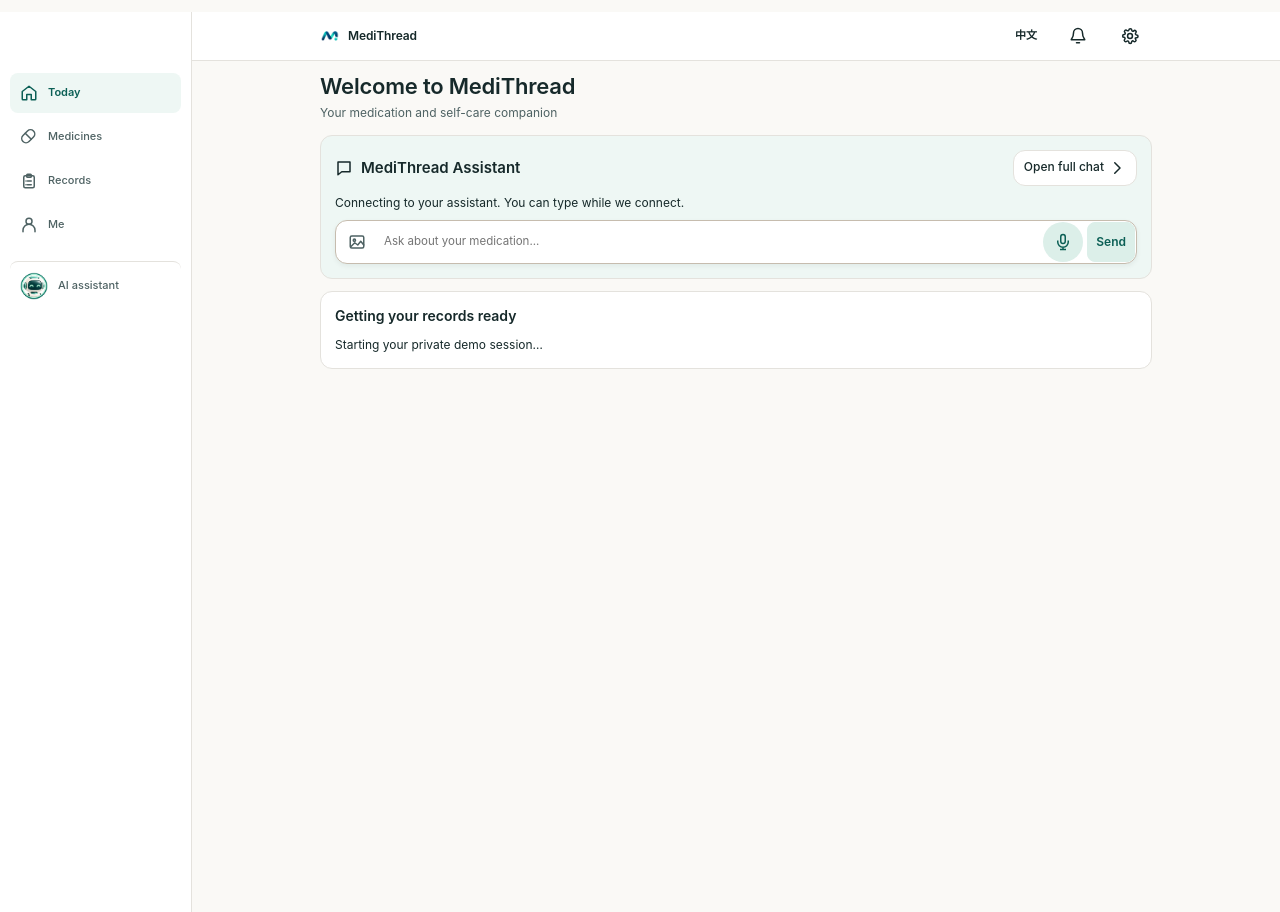
retries a failed session without losing or automatically sending the startup draft
The width and height of the screenshot is (1280, 912).
Type "DEMO retain across retry" into the field at (710, 242), box x1=381 y1=222 x2=1039 y2=262
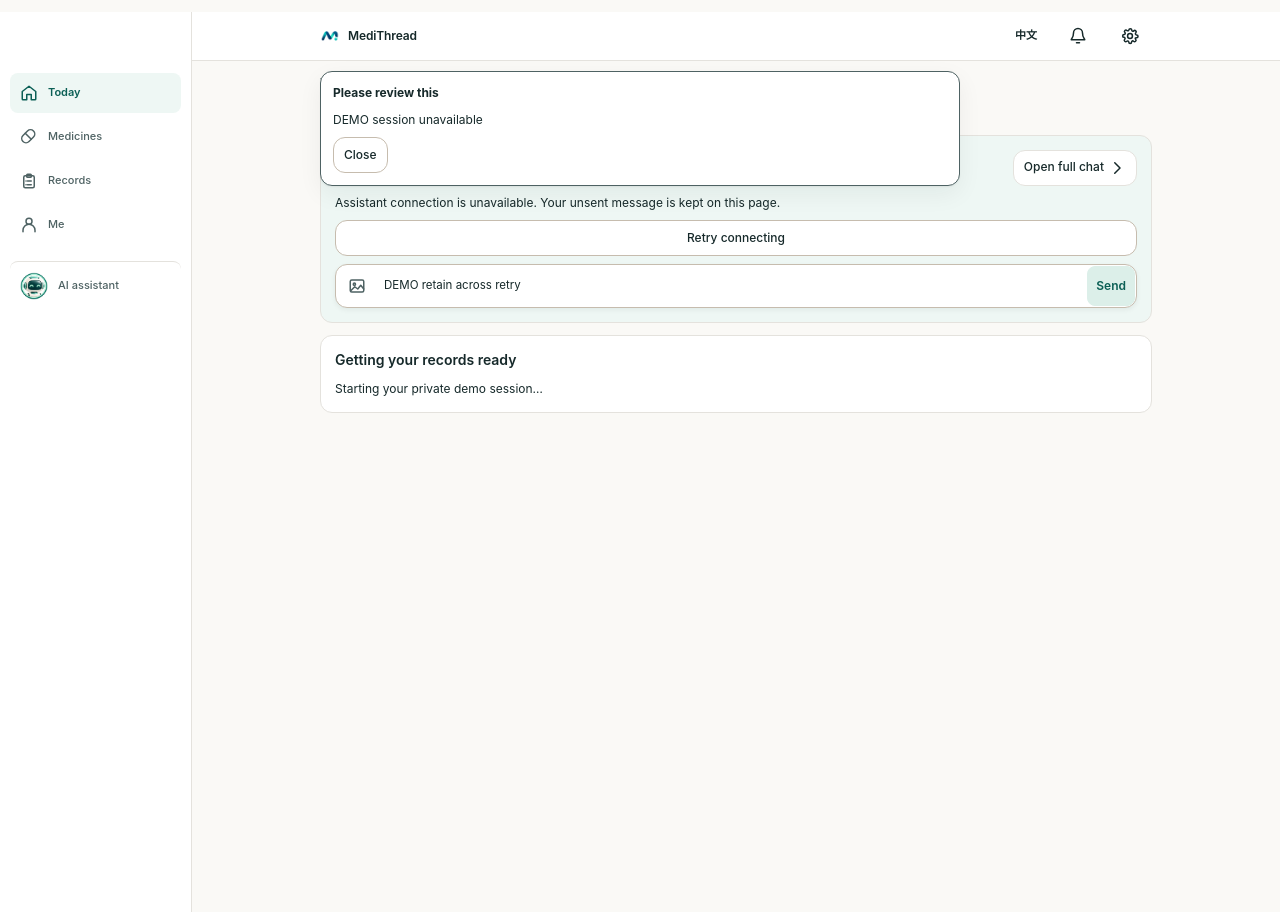
Click the button "Retry connecting" at (736, 238), box x1=335 y1=220 x2=1137 y2=256
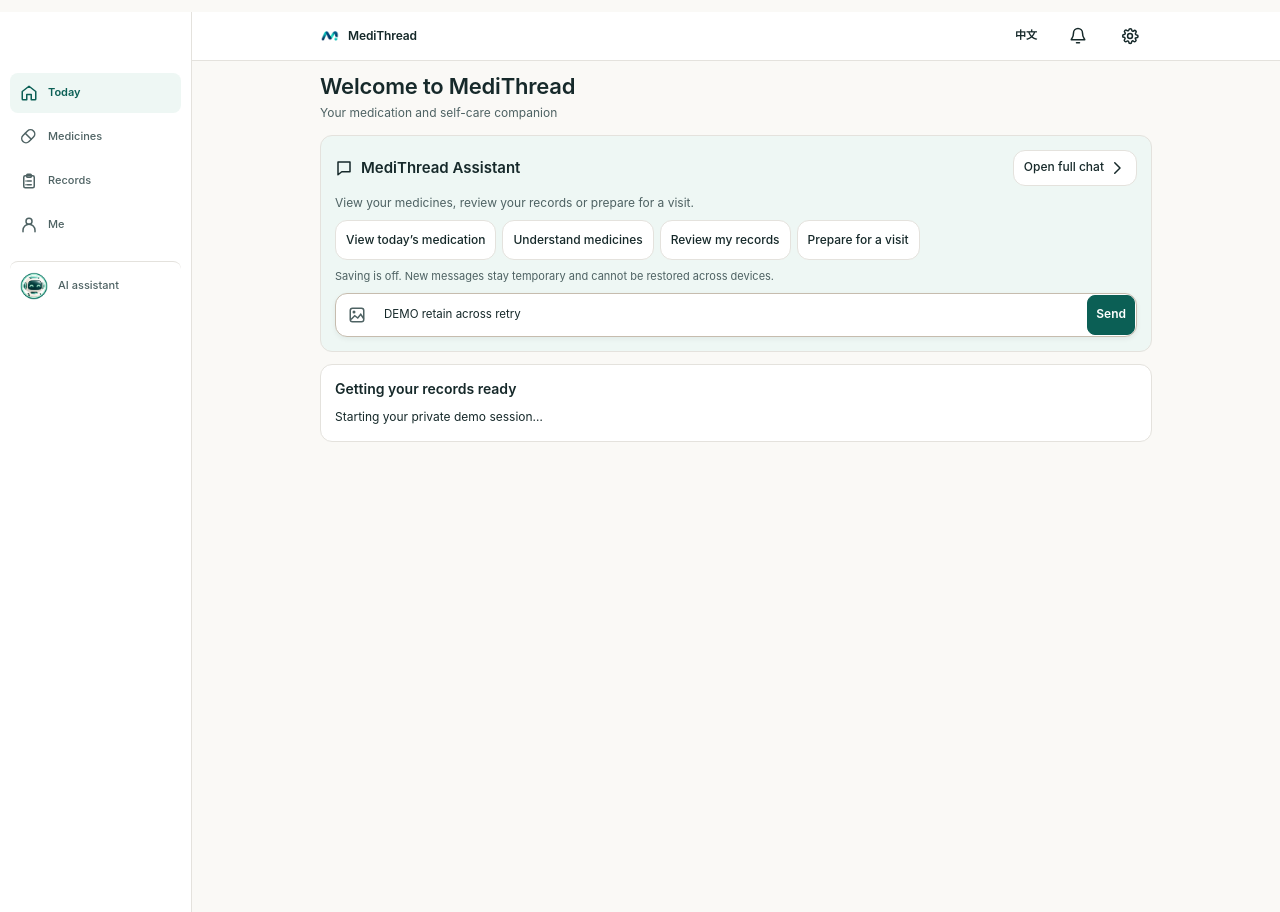
expect the field holds "DEMO retain across retry": met, box x1=381 y1=295 x2=1083 y2=335
expect the button "Send" is enabled: met, box x1=1087 y1=295 x2=1135 y2=335
